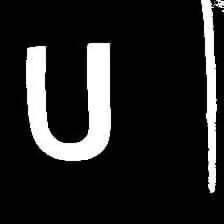LTR_U: (15, 29, 117, 167)
